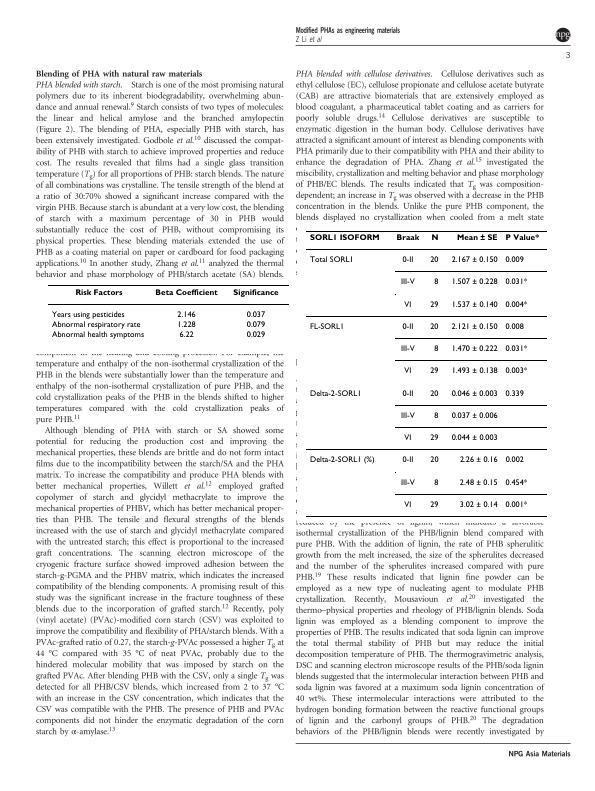borderless: (305, 229, 547, 516), (46, 283, 290, 348)
cell: (51, 330, 145, 340), (51, 320, 141, 330), (308, 456, 375, 466), (51, 310, 125, 319), (154, 288, 218, 297), (308, 389, 362, 399), (308, 234, 380, 241), (450, 278, 498, 288), (450, 300, 498, 310), (450, 322, 498, 332), (450, 344, 498, 354), (450, 367, 498, 377), (450, 389, 498, 399), (450, 411, 498, 421), (74, 288, 123, 297), (450, 256, 498, 265), (450, 434, 498, 443), (232, 288, 279, 297), (308, 256, 354, 265), (458, 456, 498, 466), (458, 478, 498, 488), (458, 500, 498, 510), (308, 322, 345, 332), (455, 234, 498, 241), (504, 234, 539, 241), (504, 278, 528, 288), (504, 300, 528, 310), (504, 344, 528, 354), (504, 367, 528, 377), (504, 478, 528, 488), (504, 500, 528, 510), (245, 320, 266, 330), (245, 330, 266, 340), (504, 322, 524, 332), (504, 389, 524, 399), (504, 456, 524, 466), (176, 320, 196, 330), (245, 310, 266, 319), (504, 256, 524, 265), (176, 310, 196, 319), (395, 234, 420, 241), (399, 278, 415, 288), (399, 344, 415, 354), (399, 411, 415, 421), (399, 478, 415, 488), (178, 330, 194, 340), (401, 322, 414, 332), (401, 389, 414, 399), (401, 456, 414, 466), (401, 256, 414, 265), (429, 300, 439, 310), (429, 322, 439, 332), (429, 367, 439, 377), (429, 389, 439, 399), (429, 456, 439, 466), (429, 500, 439, 510), (429, 256, 439, 265), (403, 300, 412, 310), (403, 367, 412, 377), (429, 434, 439, 443), (403, 500, 412, 510), (403, 434, 412, 443), (430, 234, 439, 241), (433, 278, 439, 288), (433, 344, 439, 354), (433, 411, 439, 421), (433, 478, 439, 488)
